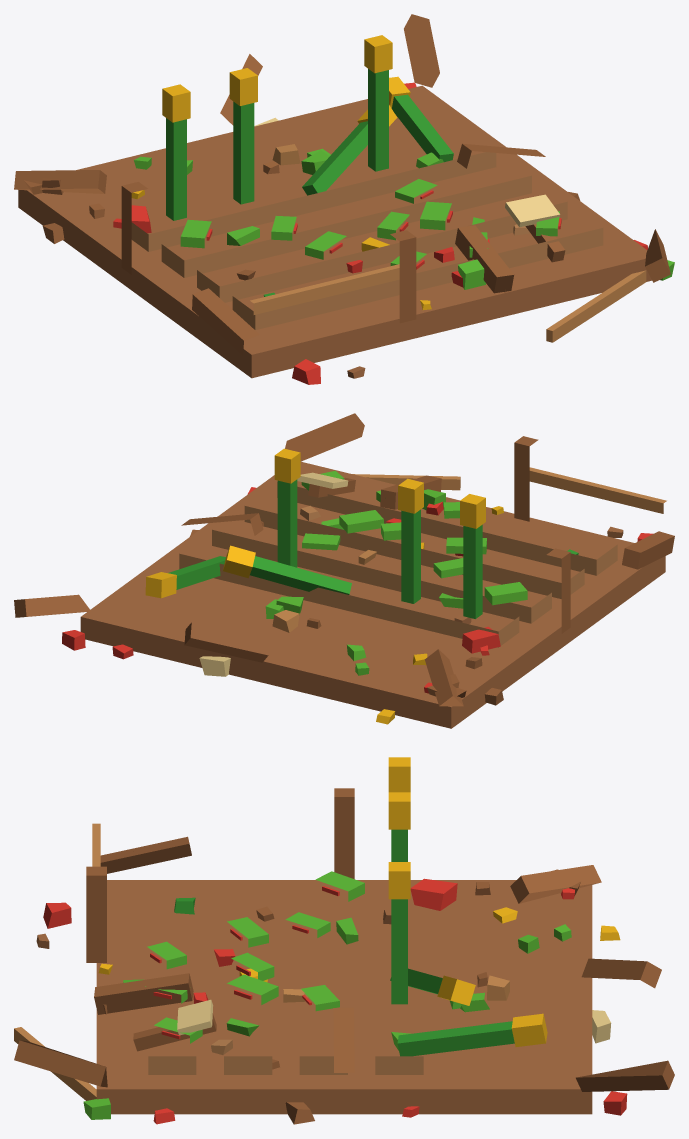
The model's file is field_t2_v4_dmg2.glb.
The picture shows the model from 3 angles, top to bottom: view 1: azimuth 30°, elevation 25°; view 2: azimuth 150°, elevation 25°; view 3: azimuth 270°, elevation 25°; orthographic projection. The views are drawn at different scales.
Parts seen in each view (by area): view 1: field_t2_v4_dmg2; view 2: field_t2_v4_dmg2; view 3: field_t2_v4_dmg2.
Part boxes in pixels (x1=…): field_t2_v4_dmg2: x1=14, y1=14, x2=674, y2=384; field_t2_v4_dmg2: x1=14, y1=413, x2=674, y2=728; field_t2_v4_dmg2: x1=14, y1=757, x2=674, y2=1124.
Bounding box in the file's own units: 0.8193 × 0.285 × 0.96.
Materials: 1 (1 with a texture image).
